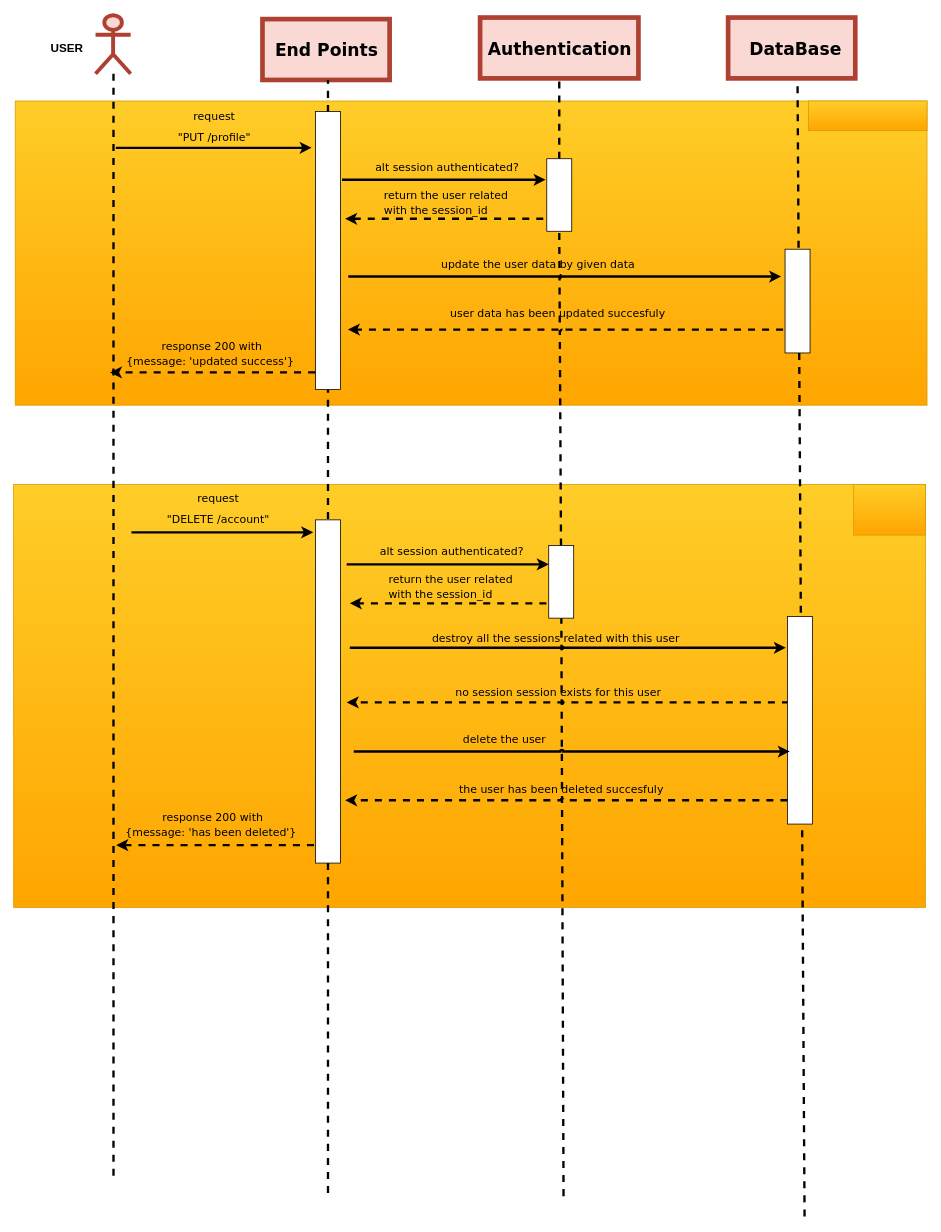
Some shapes in this 941 by 1232 pixel diagram are drawn without their labels. The shapes that lost their labels are listed below. From the top down, each one's centre as x and y in pixels, then its label:
At point (867, 115): "Update profile".
At point (889, 509): "Delete account".
